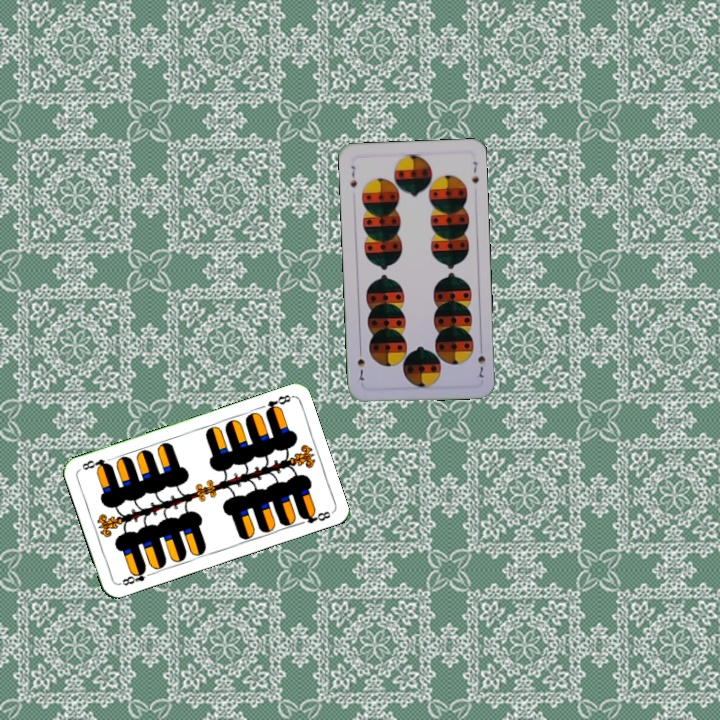E8: (115, 564, 155, 588), (261, 390, 294, 416)
S7: (473, 342, 488, 380), (346, 162, 359, 190)
